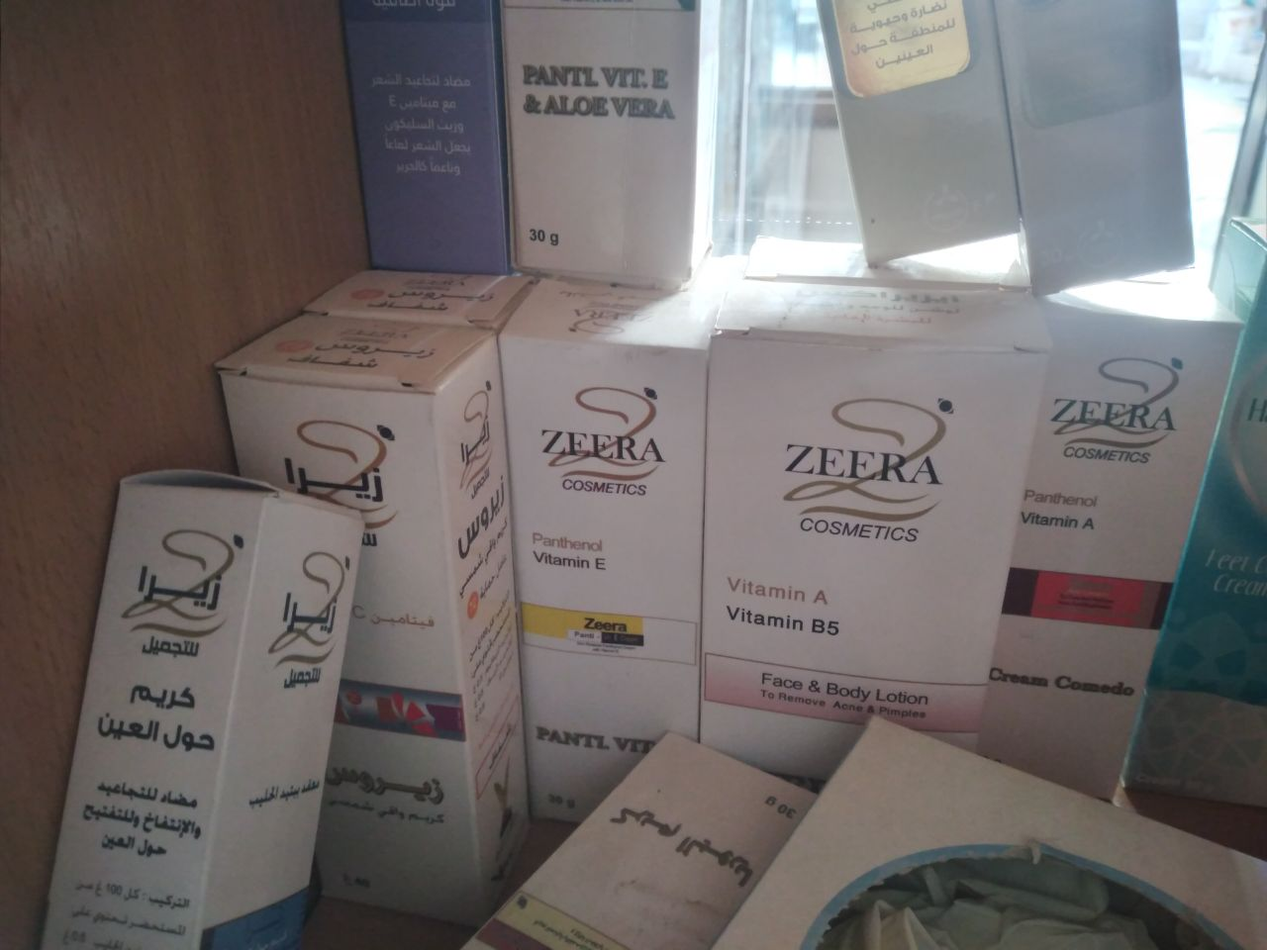Medicine: (213, 312, 500, 910), (690, 304, 1059, 767), (0, 485, 366, 950), (987, 309, 1265, 774), (505, 309, 723, 816), (973, 0, 1210, 275), (502, 0, 700, 294), (827, 0, 1024, 267), (346, 7, 512, 289)
